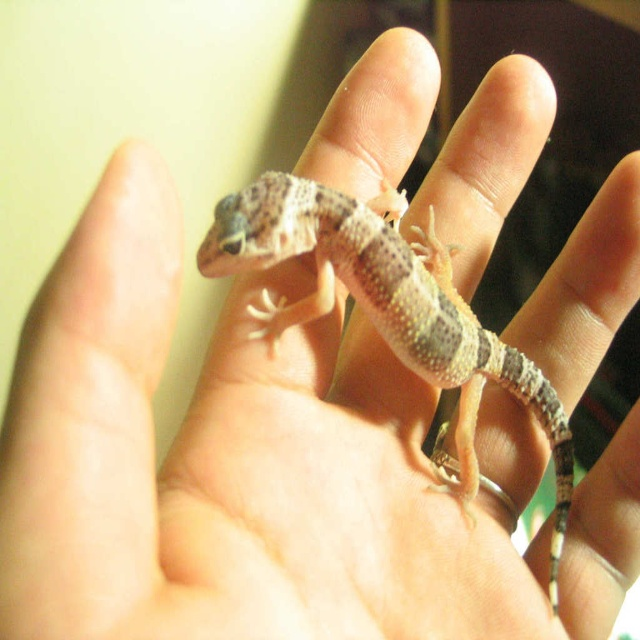Lizard: (183, 108, 605, 519)
